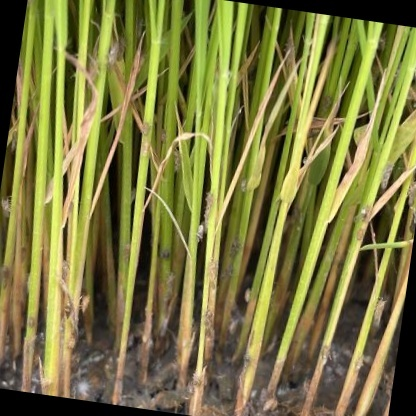Brown_hopper: (49, 246, 76, 290), (370, 286, 391, 332), (200, 255, 224, 292), (196, 304, 219, 337), (278, 36, 299, 72), (231, 169, 253, 201), (6, 126, 26, 160), (114, 31, 132, 67), (190, 214, 210, 246), (114, 237, 135, 267), (222, 314, 245, 341), (225, 235, 247, 263), (377, 159, 395, 193), (170, 147, 190, 177), (54, 255, 74, 284), (355, 201, 380, 224), (315, 93, 337, 119), (217, 264, 238, 291), (76, 290, 93, 320), (65, 352, 85, 377), (401, 179, 416, 211), (163, 270, 180, 298), (316, 338, 333, 366), (239, 352, 253, 380), (155, 125, 171, 149), (262, 396, 281, 416), (352, 225, 370, 246), (137, 138, 154, 160), (56, 257, 72, 280), (353, 350, 366, 377), (378, 29, 390, 57), (242, 284, 256, 308), (189, 371, 205, 391), (25, 315, 39, 334), (140, 119, 153, 139), (138, 330, 152, 348), (65, 336, 80, 352), (160, 249, 174, 266)
